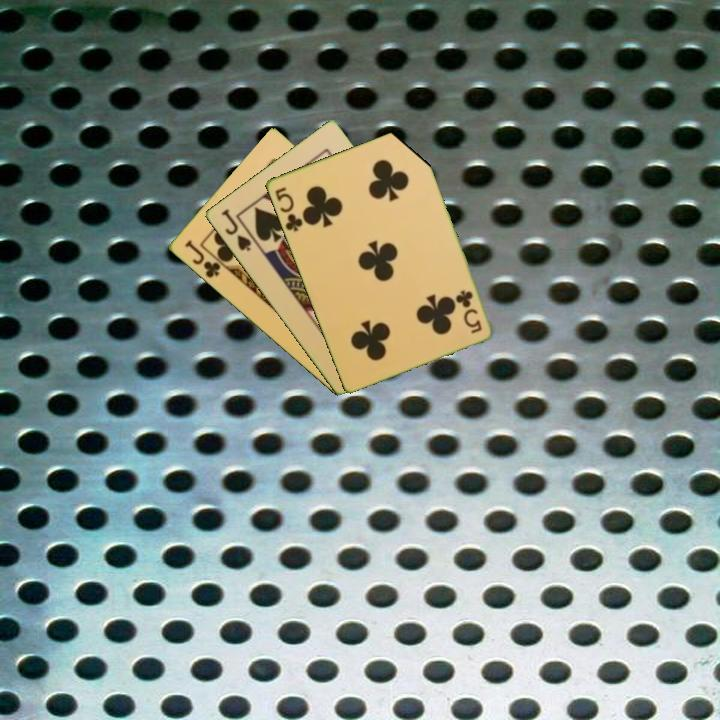5c: (271, 183, 305, 234), (452, 286, 484, 337)
Jc: (181, 236, 223, 281)
Js: (217, 205, 254, 254)
